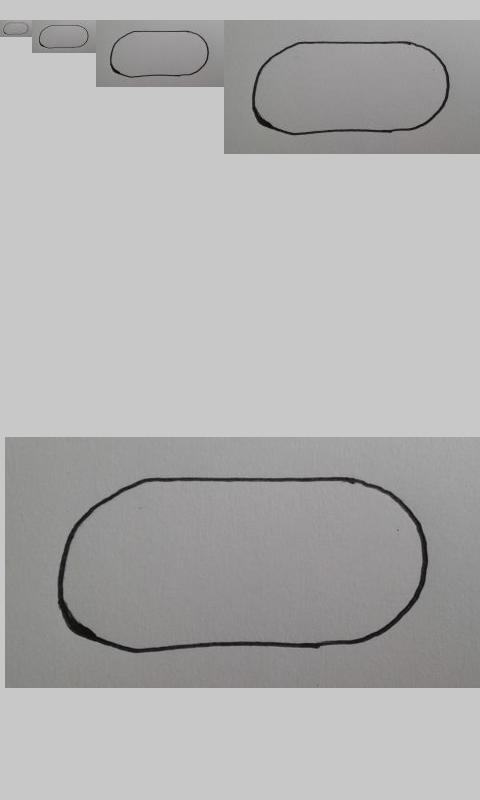chip: (56, 477, 429, 653), (251, 40, 451, 135), (109, 30, 209, 78), (38, 24, 90, 49), (3, 22, 29, 36)
